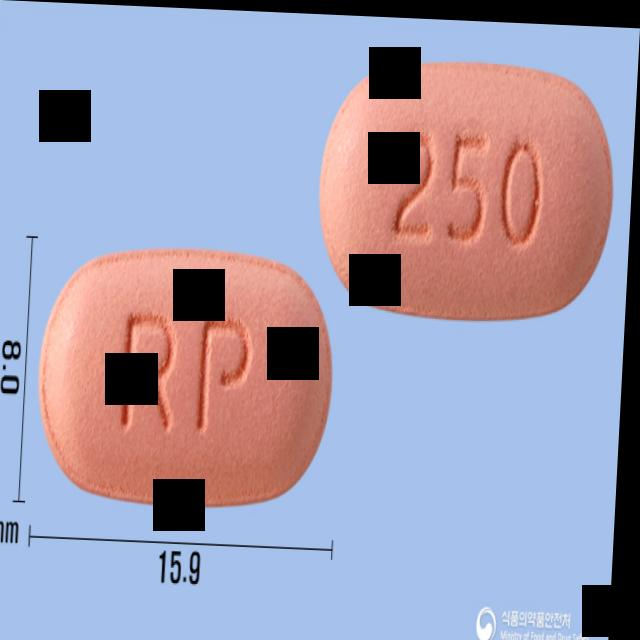Rp Levofloxacin Tab: (36, 241, 342, 512), (315, 55, 621, 320)
